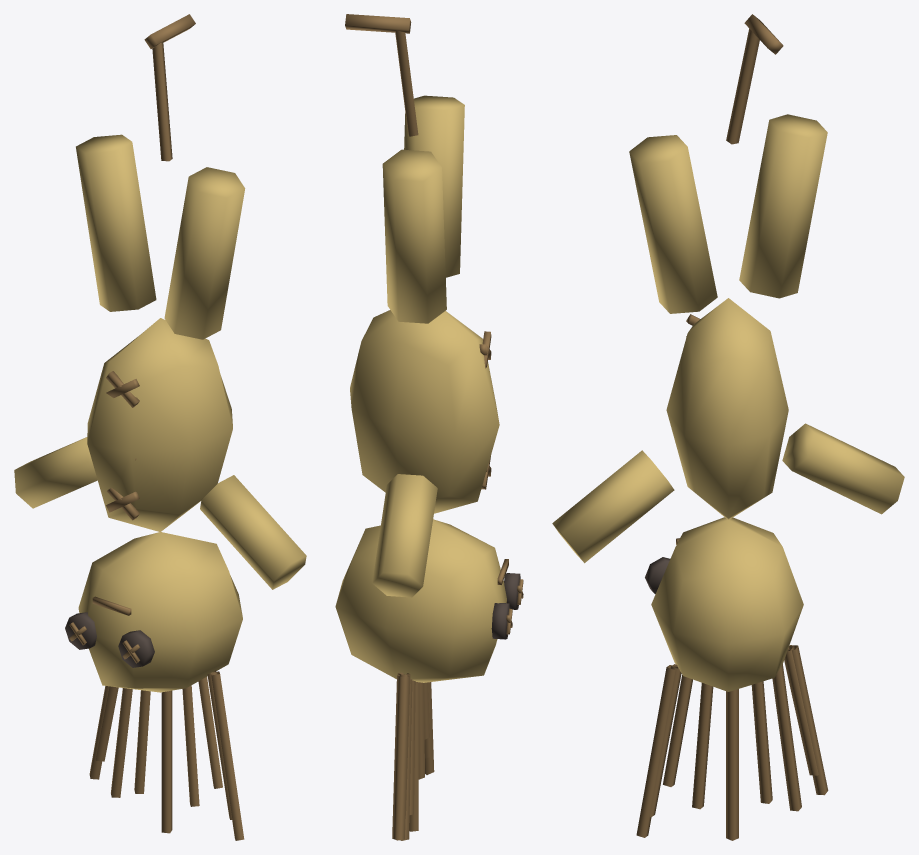
Rendered from Muneca.glb.
3 views of the same model, side by side, from view 1: azimuth 30°, elevation 25°; view 2: azimuth 150°, elevation 25°; view 3: azimuth 270°, elevation 25° (orthographic). The views are drawn at different scales.
Visible parts, largest first — view 1: Muneca; view 2: Muneca; view 3: Muneca.
Part boxes in pixels (<box>): Muneca: <box>14,14,306,840</box>; Muneca: <box>335,14,523,840</box>; Muneca: <box>552,14,904,840</box>.
Bounding box in the file's own units: 0.1845 × 0.8439 × 0.3284.
